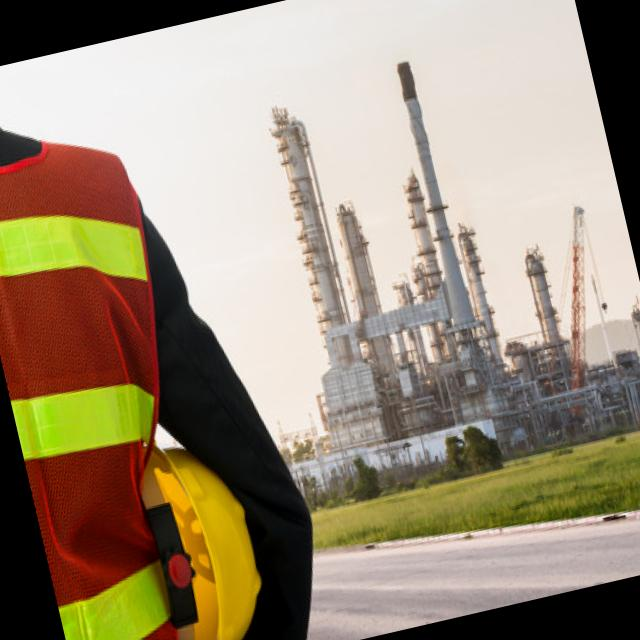vest: (0, 118, 249, 640)
